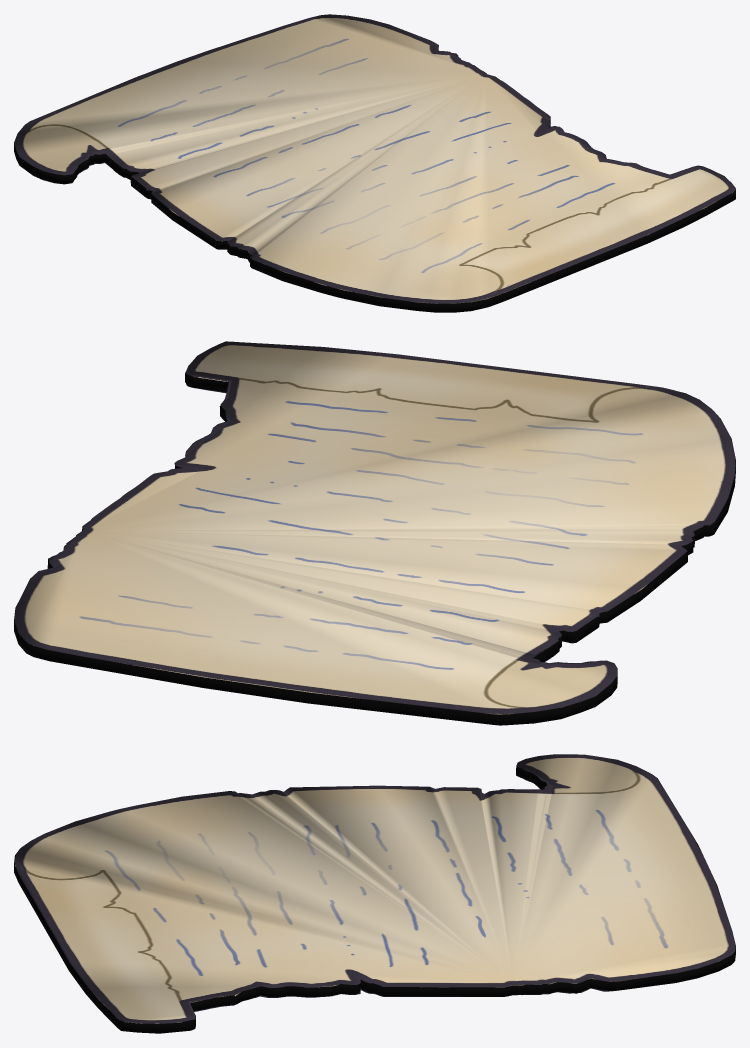
Rendered from CartaAntiga.fbx.
The picture shows the model from 3 angles, top to bottom: view 1: azimuth 30°, elevation 25°; view 2: azimuth 150°, elevation 25°; view 3: azimuth 270°, elevation 25°; orthographic projection. The views are drawn at different scales.
Visible parts, largest first — view 1: CartaAntiga; view 2: CartaAntiga; view 3: CartaAntiga.
Part boxes in pixels (<box>): CartaAntiga: <box>14,14,735,312</box>; CartaAntiga: <box>14,341,735,725</box>; CartaAntiga: <box>14,754,735,1033</box>.
Bounding box in the file's own units: 126 × 2.39 × 142.
